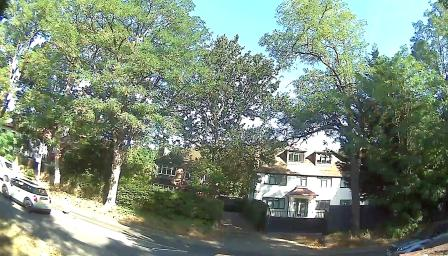Cars: (366, 217, 447, 256), (4, 178, 61, 214)
